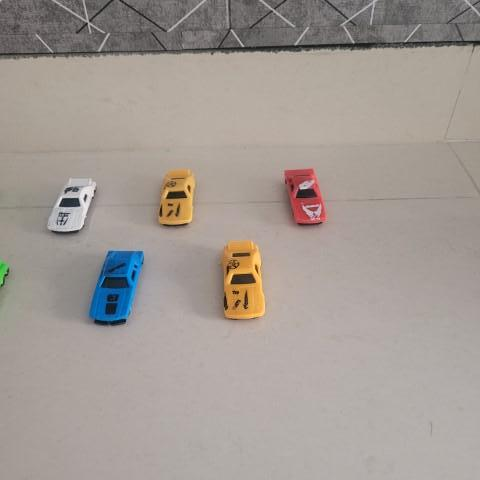car: (87, 249, 153, 325), (220, 235, 269, 322), (46, 178, 102, 231), (282, 165, 328, 228), (157, 168, 198, 228)
